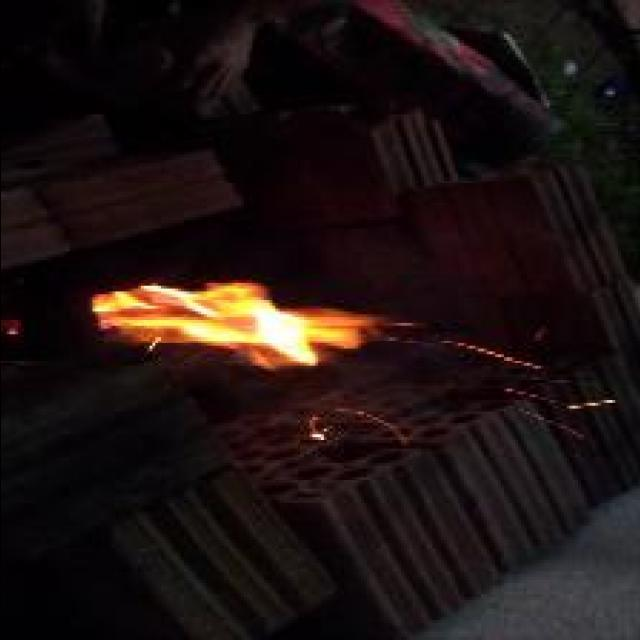Fire: (90, 279, 424, 372)
